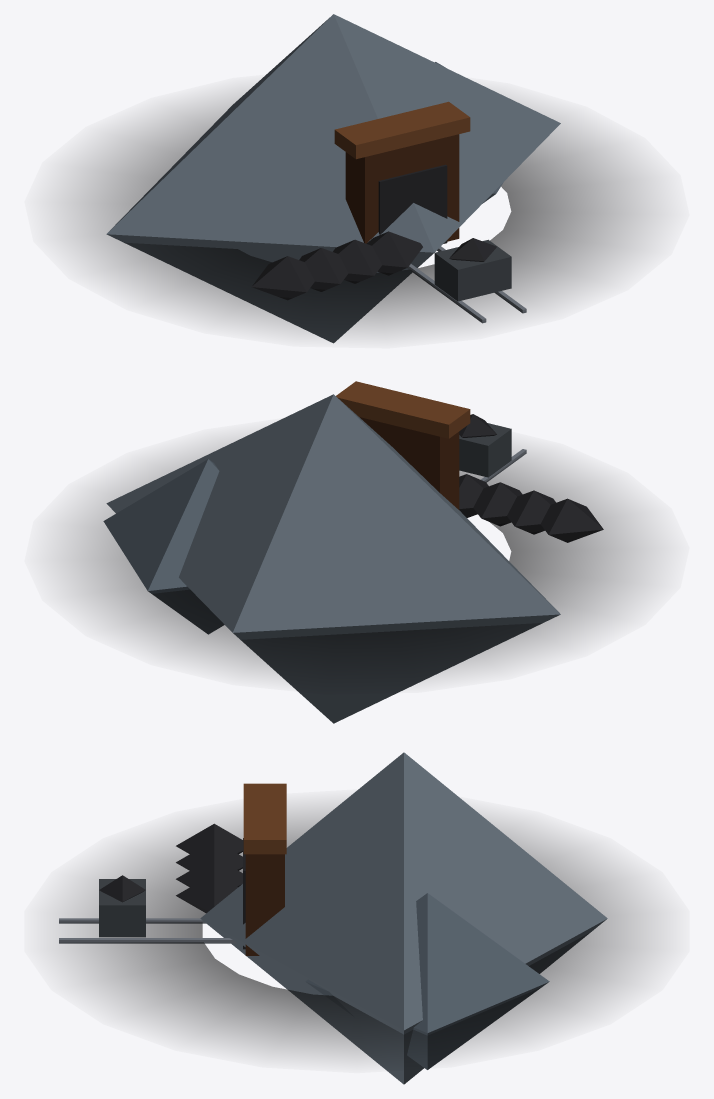
File: coal_mine_t2.glb
The picture shows the model from 3 angles, top to bottom: view 1: azimuth 30°, elevation 25°; view 2: azimuth 150°, elevation 25°; view 3: azimuth 270°, elevation 25°; orthographic projection.
Visible parts, largest first — view 1: coal_mine_t2; view 2: coal_mine_t2; view 3: coal_mine_t2.
Boxes of the visible parts, x1,y1,x2,y2 form: coal_mine_t2: (66,14,647,343); coal_mine_t2: (66,381,647,723); coal_mine_t2: (59,752,647,1084).
Bounding box in the file's own units: 8.84 × 4.68 × 8.75.
